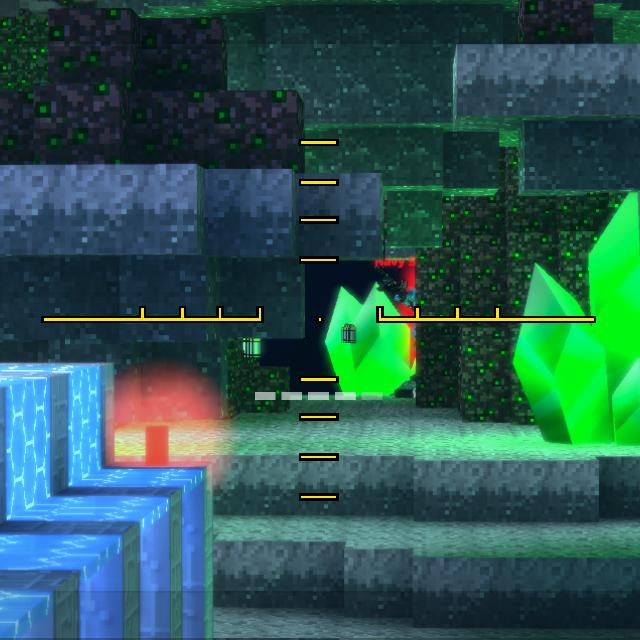Enemy: (406, 283, 417, 364)
